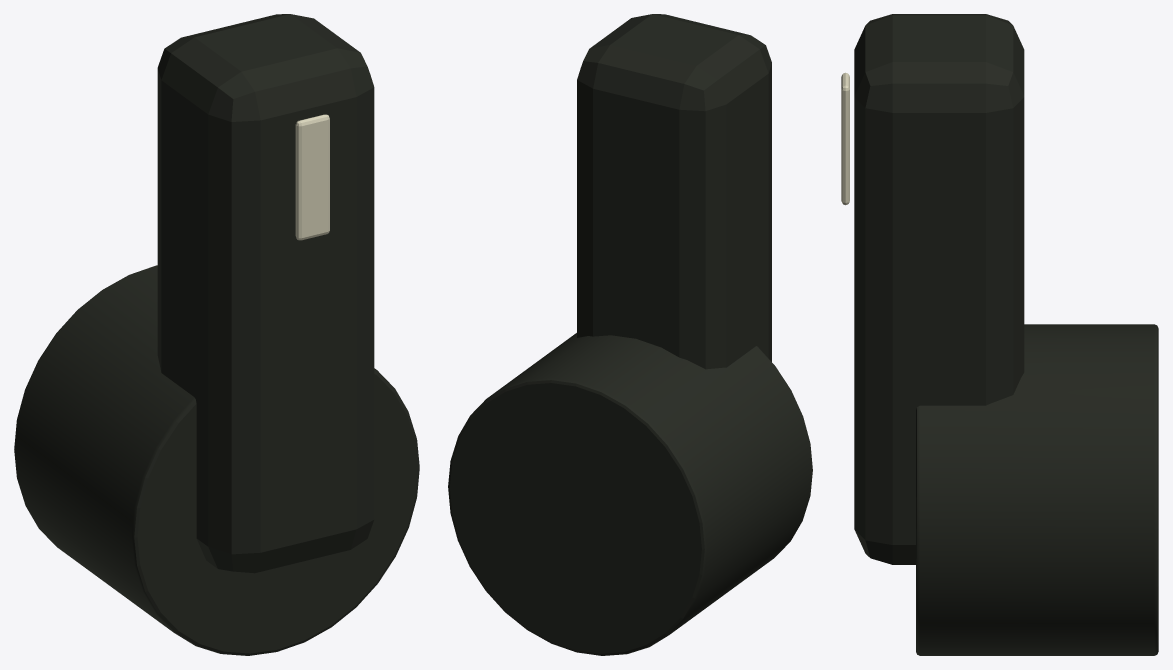
File: AUX_Handle.fbx
3 renders of one model, left to right at view 1: azimuth 30°, elevation 25°; view 2: azimuth 150°, elevation 25°; view 3: azimuth 270°, elevation 25°, orthographic. The views are drawn at different scales.
Parts seen in each view (by area): view 1: AUX_Handle_EXPORT; view 2: AUX_Handle_EXPORT; view 3: AUX_Handle_EXPORT.
Part boxes in pixels (x1,y1,x2,y2): AUX_Handle_EXPORT: [14, 14, 419, 655]; AUX_Handle_EXPORT: [448, 14, 812, 655]; AUX_Handle_EXPORT: [841, 14, 1158, 655].
Size of the model in its own units: 0.078 by 0.156 by 0.0745.
